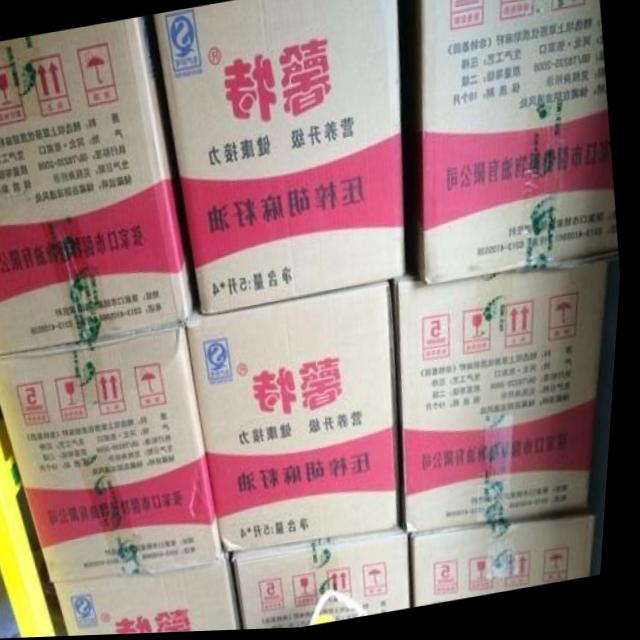box: (154, 0, 411, 319), (0, 19, 200, 359), (0, 329, 230, 585), (191, 285, 408, 556), (420, 0, 623, 288), (399, 265, 610, 537), (419, 515, 602, 611), (239, 536, 421, 632), (61, 557, 249, 637)
